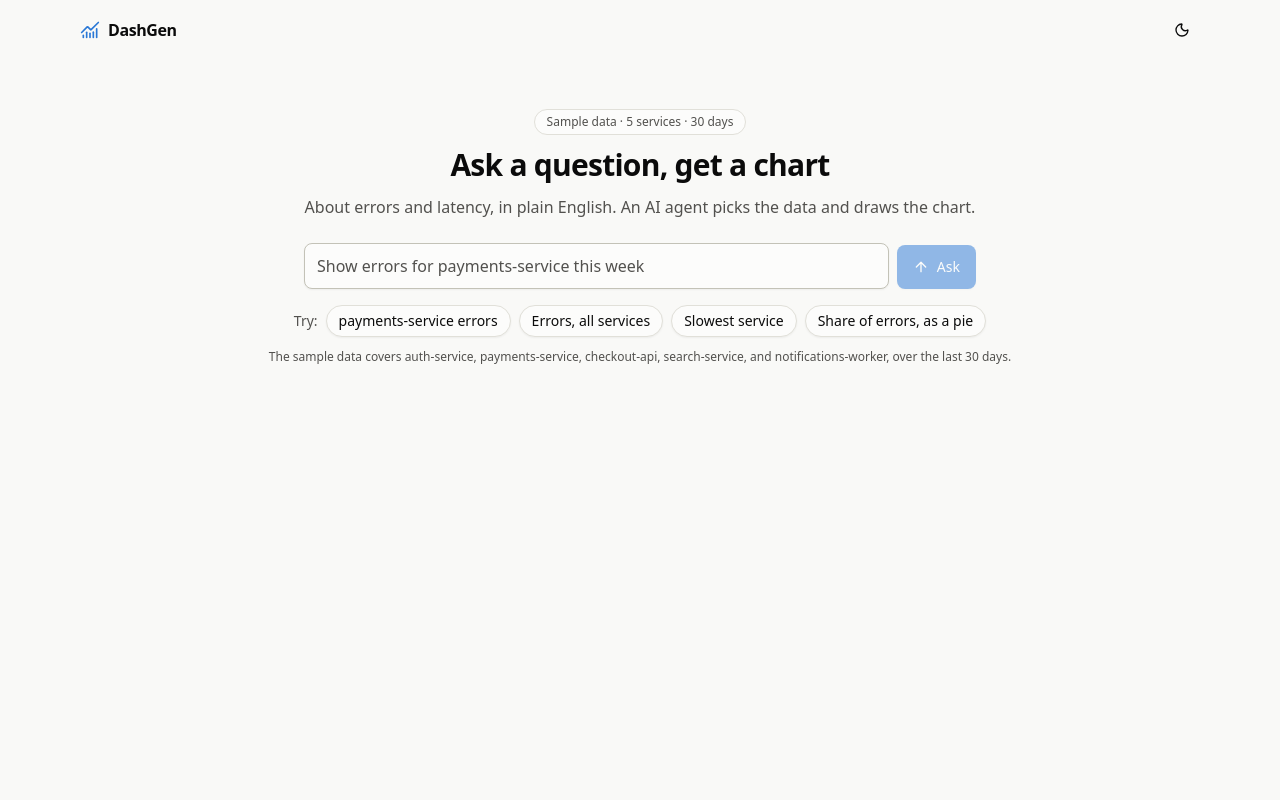
it: the theme toggle › switches the theme, and remembers the choice
Step 1. Click the button named "Use the dark theme" → click(1182, 30), box x1=1164 y1=12 x2=1200 y2=48
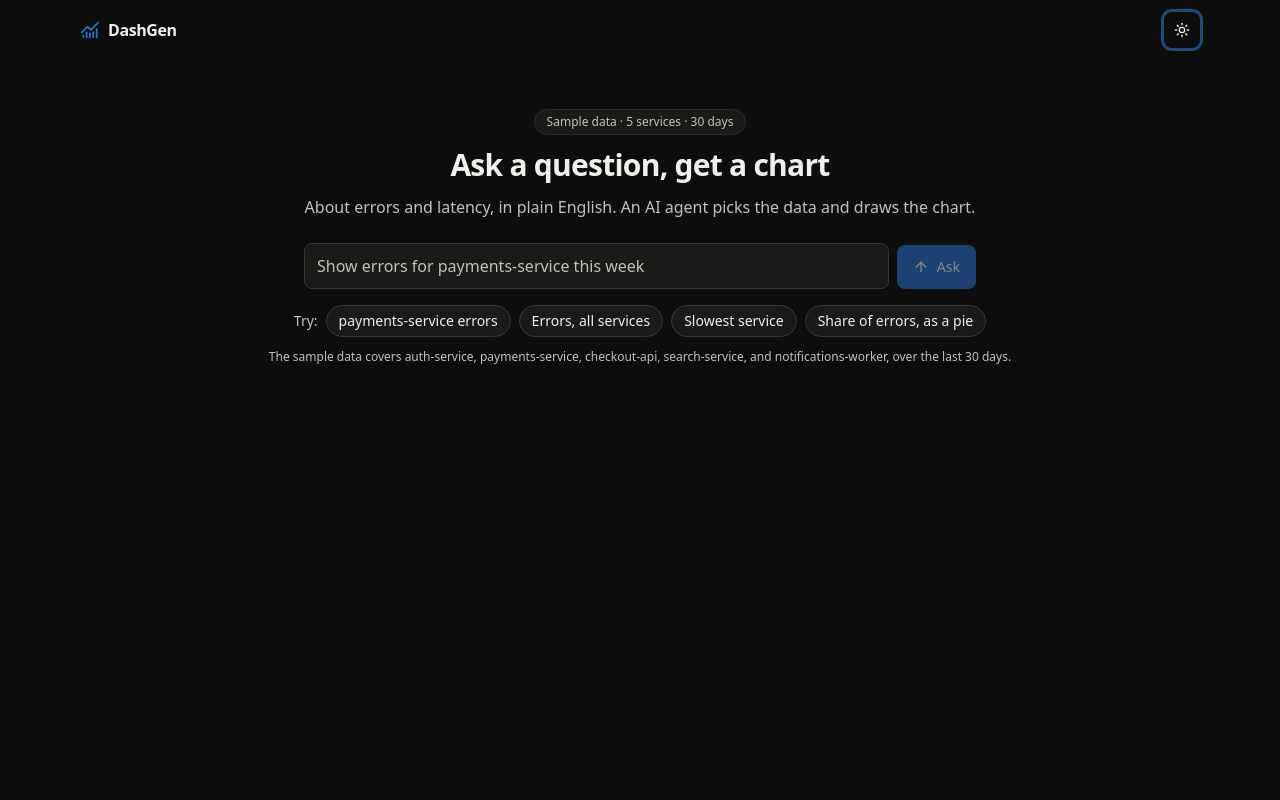
Expected: the button named "Use the light theme" is shown, x1=1164 y1=12 x2=1200 y2=48
